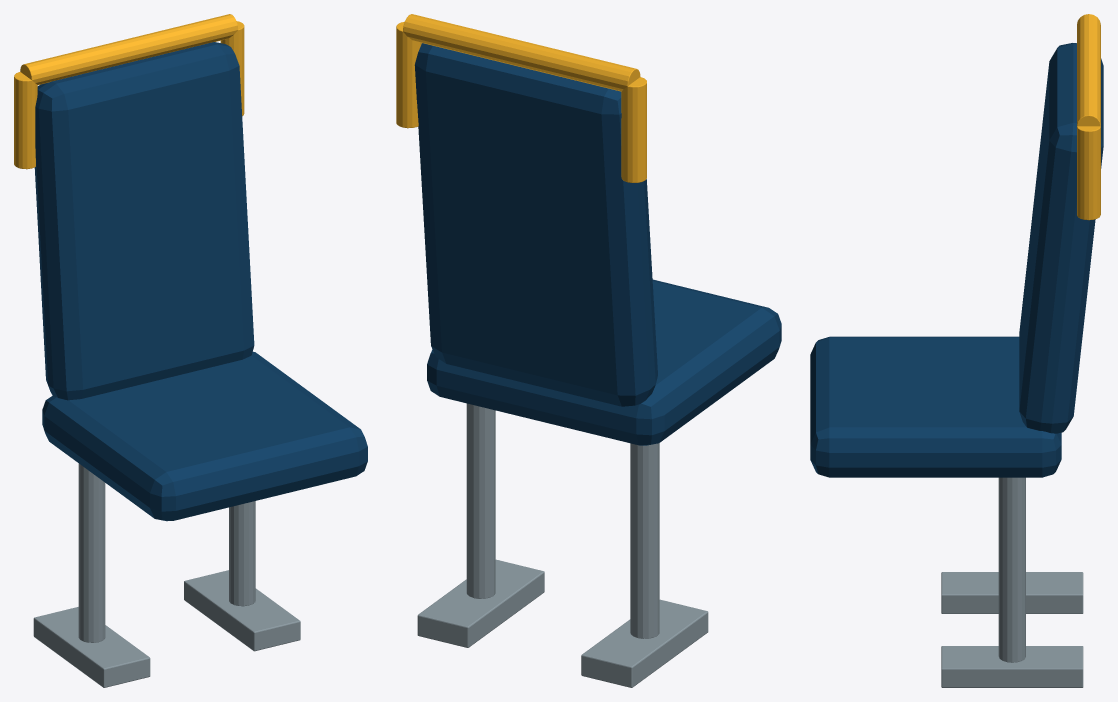
File: edited.glb
The picture shows the model from 3 angles, left to right: view 1: azimuth 30°, elevation 25°; view 2: azimuth 150°, elevation 25°; view 3: azimuth 270°, elevation 25°; orthographic projection. The views are drawn at different scales.
Parts seen in each view (by area): view 1: BACK_Cushion, SEAT_Cushion, BACK_Grip, FOOT_Plate, FOOT_Plate.001, LEG, LEG.001, GRIP_End, GRIP_End.001; view 2: BACK_Cushion, SEAT_Cushion, BACK_Grip, LEG, LEG.001, FOOT_Plate.001, FOOT_Plate, GRIP_End, GRIP_End.001; view 3: SEAT_Cushion, BACK_Cushion, FOOT_Plate.001, LEG.001, FOOT_Plate, BACK_Grip, GRIP_End.001.
Boxes of the visible parts, x1,y1,x2,y2 form: BACK_Cushion: (34,42,254,400); SEAT_Cushion: (42,351,367,521); BACK_Grip: (20,14,238,84); FOOT_Plate: (33,607,150,687); FOOT_Plate.001: (184,570,300,651); LEG: (78,463,105,642); LEG.001: (229,501,255,606); GRIP_End: (14,72,37,169); GRIP_End.001: (220,21,244,115); BACK_Cushion: (414,43,657,406); SEAT_Cushion: (427,279,781,445); BACK_Grip: (403,14,640,91); LEG: (630,443,659,638); LEG.001: (466,403,495,598); FOOT_Plate.001: (417,559,544,647); FOOT_Plate: (581,599,708,687); GRIP_End: (621,77,646,182); GRIP_End.001: (396,22,421,128); SEAT_Cushion: (810,336,1061,477); BACK_Cushion: (1019,43,1103,433); FOOT_Plate.001: (941,646,1083,687); LEG.001: (998,477,1025,662); FOOT_Plate: (941,572,1083,613); BACK_Grip: (1077,14,1100,126); GRIP_End.001: (1077,126,1100,220).
Size of the model in its own units: 0.484 by 1.16 by 0.5372.
